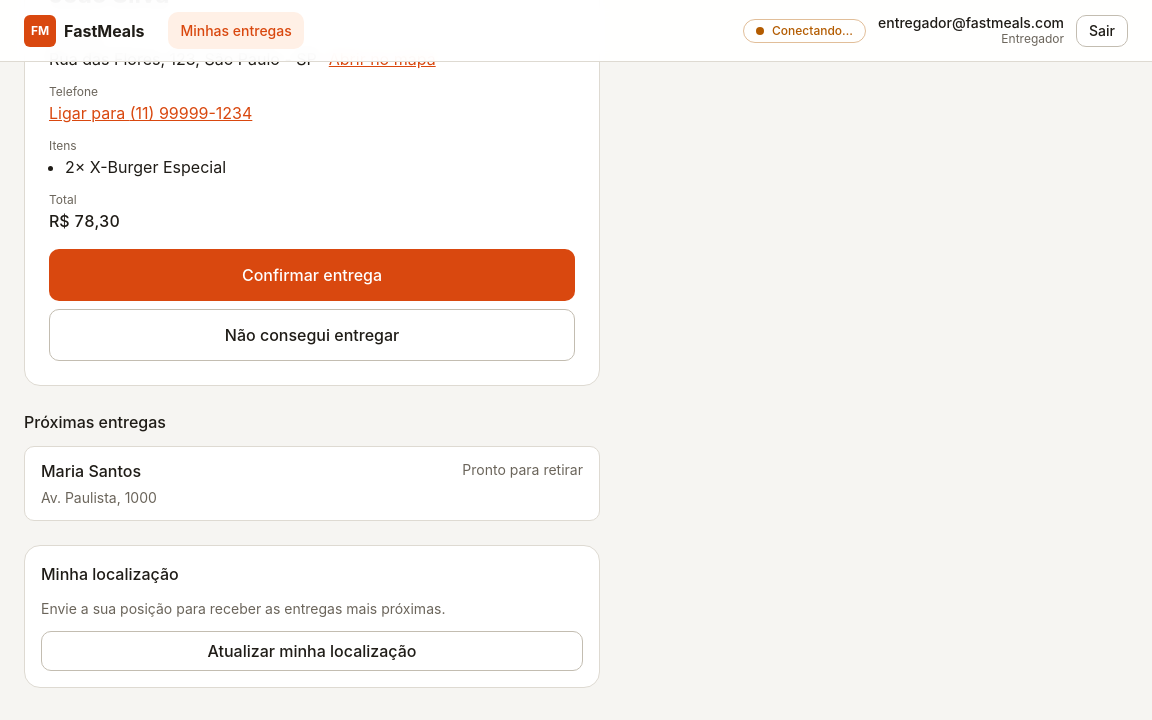
Test: Tela do entregador › envia a posição do celular
(page scrolled)
Click the button "Atualizar minha localização". click: [312, 651]
box: x1=41 y1=631 x2=583 y2=671
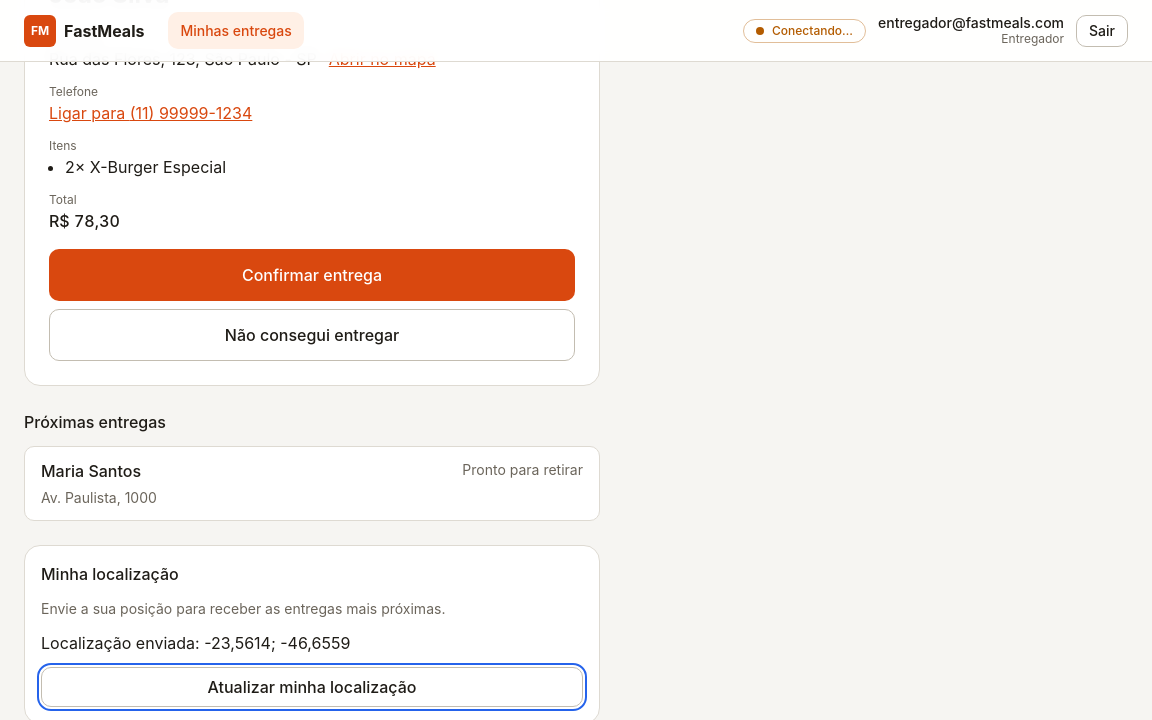
Expected: the text "Localização enviada: -23,5614; -46,6559" is shown, x1=41 y1=633 x2=350 y2=653
